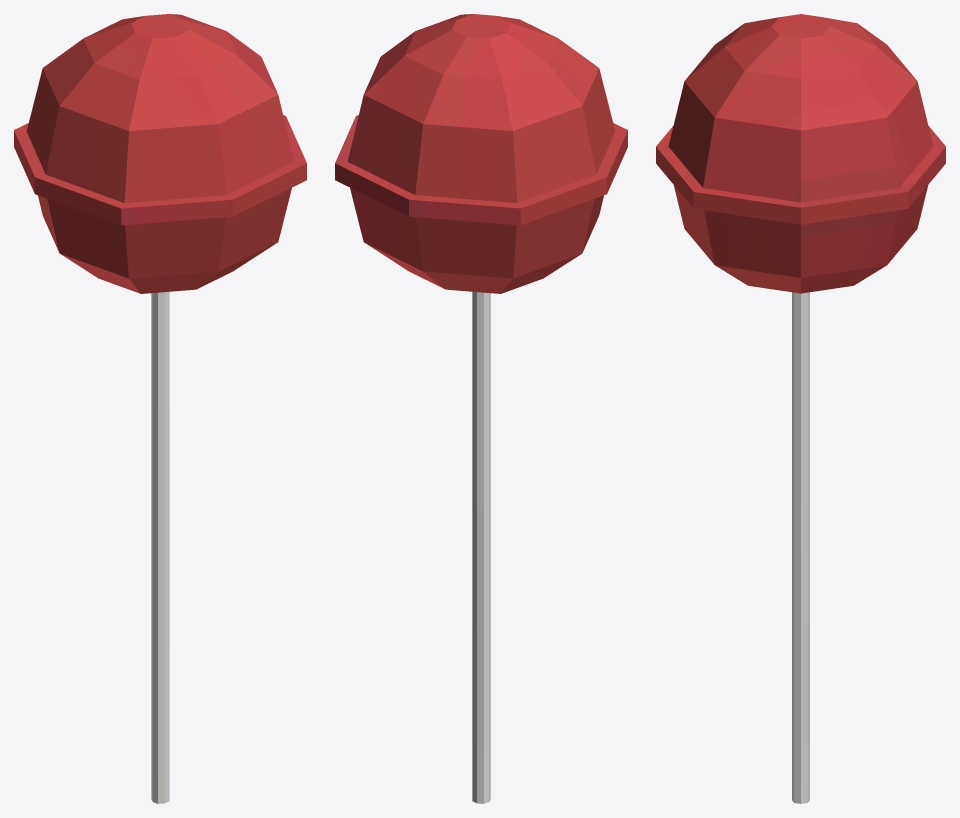
Rendered from 4zZE7UiKdU3.glb.
3 renders of one model, left to right at view 1: azimuth 30°, elevation 25°; view 2: azimuth 150°, elevation 25°; view 3: azimuth 270°, elevation 25°, orthographic.
Visible parts, largest first — view 1: Cube.017_Cube.027; view 2: Cube.017_Cube.027; view 3: Cube.017_Cube.027.
Part boxes in pixels (x1=…): Cube.017_Cube.027: x1=14, y1=14, x2=306, y2=803; Cube.017_Cube.027: x1=335, y1=14, x2=627, y2=803; Cube.017_Cube.027: x1=656, y1=14, x2=945, y2=803.
Size of the model in its own units: 0.3396 by 1 by 0.3396.
Materials: 1 (1 with a texture image).
